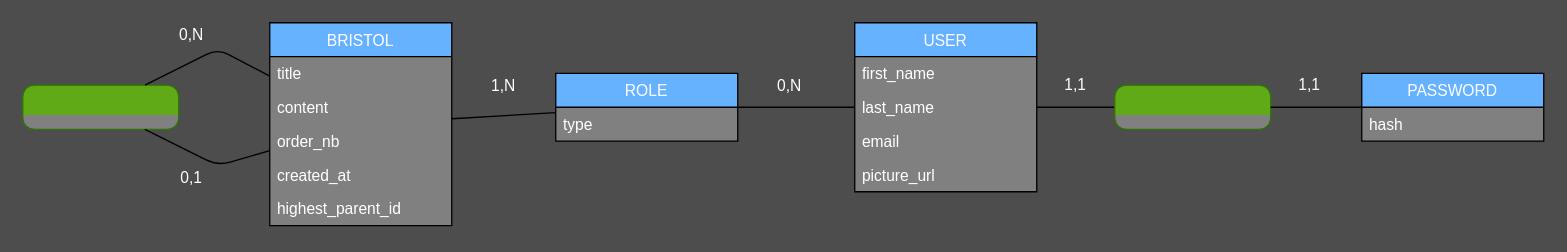
Image size: 1567x252. Some labels were removed from this diagram. Here are the shapes that lost their labels. From the top down, the centre of each, then its label:
At pixel 100 106: "IS PARENT OF".
At pixel 1192 106: "PROTECTED BY".
